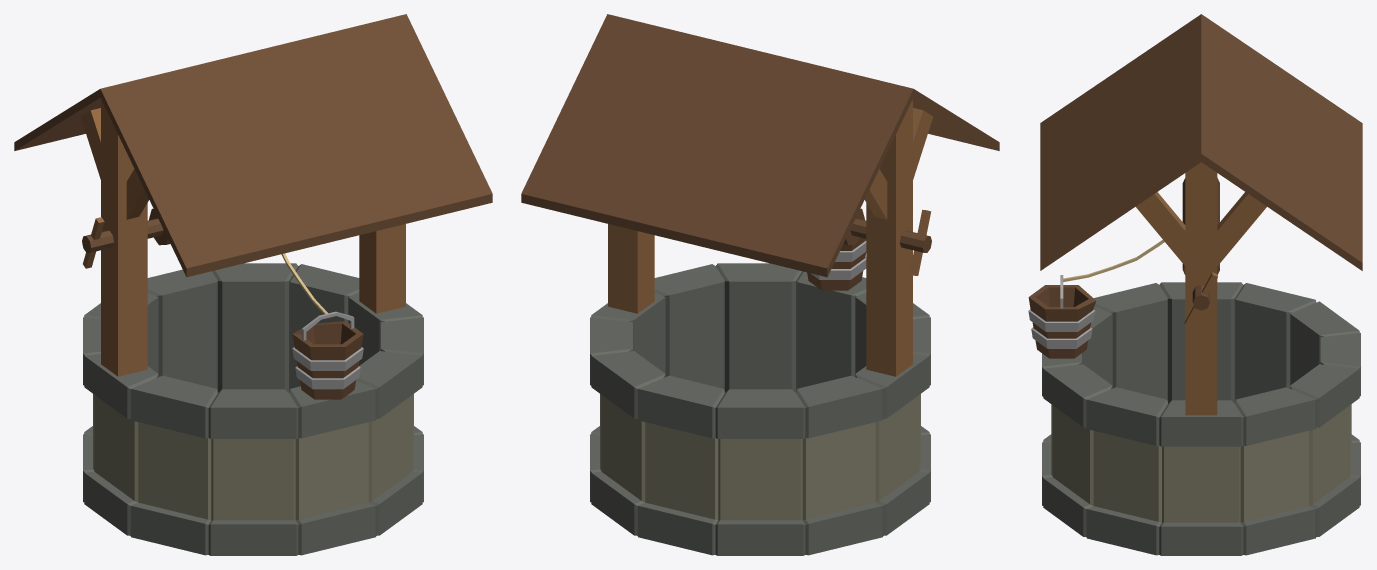
Rendered from Well_mat.fbx.
The picture shows the model from 3 angles, left to right: view 1: azimuth 30°, elevation 25°; view 2: azimuth 150°, elevation 25°; view 3: azimuth 270°, elevation 25°; orthographic projection. The views are drawn at different scales.
Visible parts, largest first — view 1: Well_mat; view 2: Well_mat; view 3: Well_mat.
Part boxes in pixels (x1=…): Well_mat: x1=14, y1=14, x2=492, y2=555; Well_mat: x1=521, y1=14, x2=999, y2=555; Well_mat: x1=1028, y1=14, x2=1362, y2=555.
Size of the model in its own units: 116 by 143 by 107.
